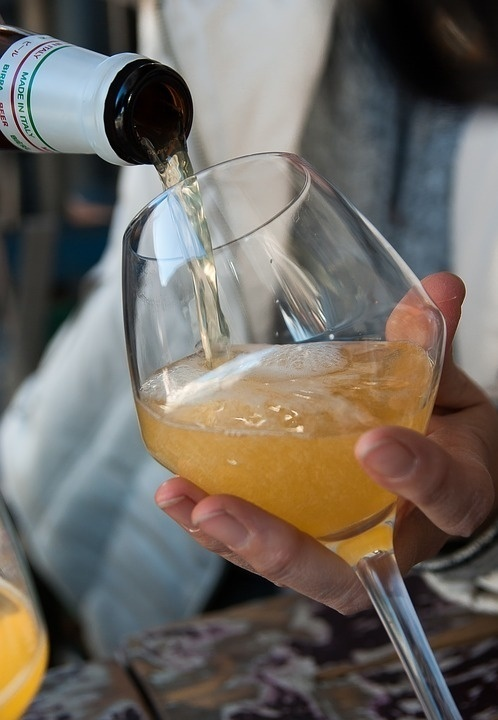whiskey: (122, 145, 442, 718)
